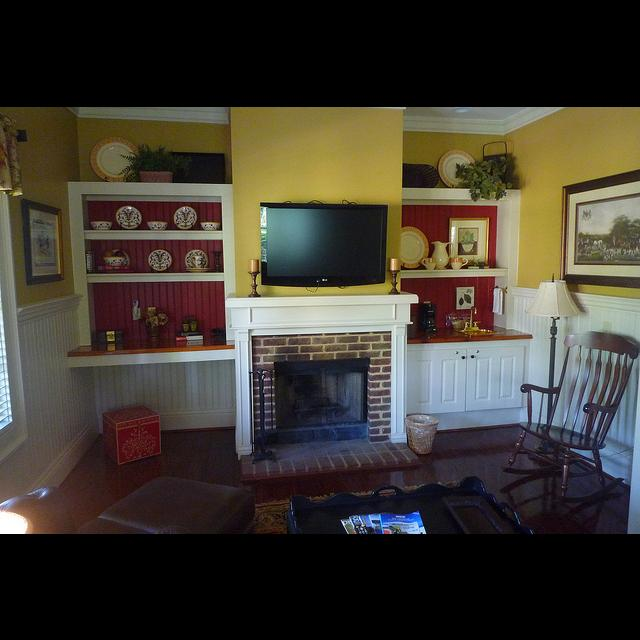Flat-Panel-TV: (258, 201, 387, 286)
